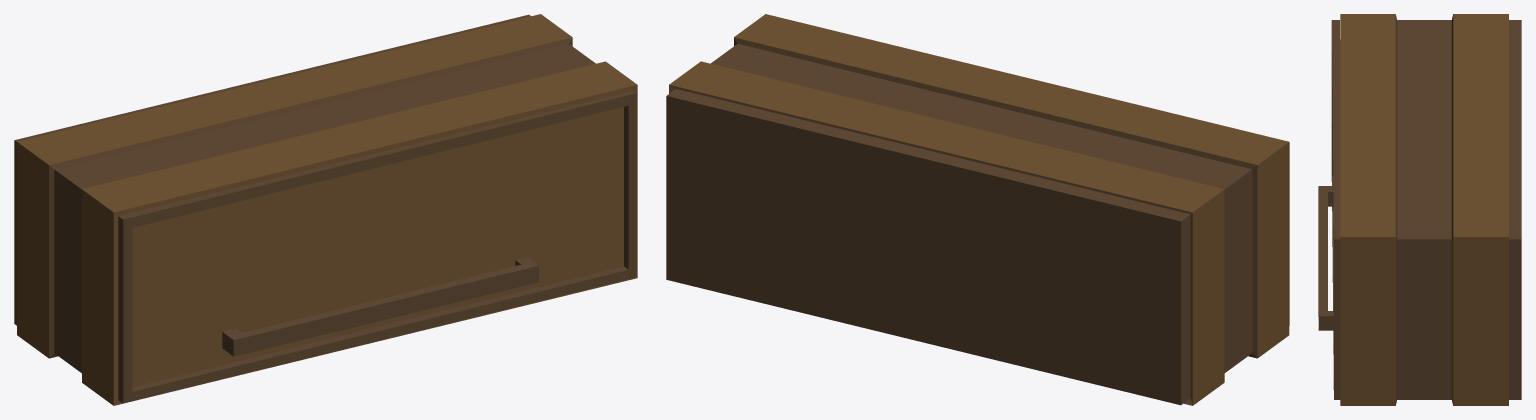
The model's file is armario 2.fbx.
3 renders of one model, left to right at view 1: azimuth 30°, elevation 25°; view 2: azimuth 150°, elevation 25°; view 3: azimuth 270°, elevation 25°, orthographic. The views are drawn at different scales.
Visible parts, largest first — view 1: porta armario, armario1; view 2: armario1; view 3: armario1, porta armario.
Part boxes in pixels (left/top/right/bottom): porta armario: left=118, top=90, right=636, bottom=403; armario1: left=14, top=14, right=637, bottom=405; armario1: left=666, top=14, right=1289, bottom=405; armario1: left=1340, top=14, right=1521, bottom=405; porta armario: left=1318, top=20, right=1340, bottom=399.
Bounding box in the file's own units: 1453 × 513 × 559.
